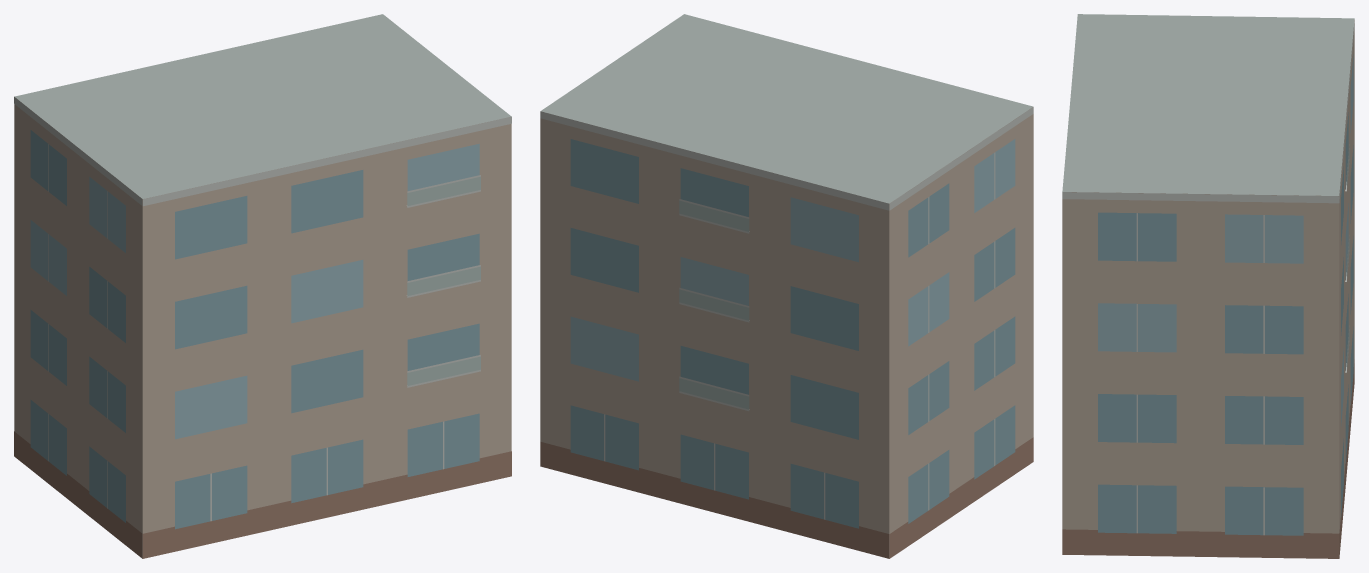
Rendered from residential-c072b9a8-ba1a-48c3-94fe-61c0b2ecac6c.glb.
3 views of the same model, side by side, from view 1: azimuth 30°, elevation 25°; view 2: azimuth 150°, elevation 25°; view 3: azimuth 270°, elevation 25° (orthographic). The views are drawn at different scales.
Parts seen in each view (by area): view 1: residential-c072b9a8-ba1a-48c3-94fe-61c0b2ecac6c.tmp; view 2: residential-c072b9a8-ba1a-48c3-94fe-61c0b2ecac6c.tmp; view 3: residential-c072b9a8-ba1a-48c3-94fe-61c0b2ecac6c.tmp.
Boxes of the visible parts, x1=… form: residential-c072b9a8-ba1a-48c3-94fe-61c0b2ecac6c.tmp: x1=14, y1=14, x2=511, y2=558; residential-c072b9a8-ba1a-48c3-94fe-61c0b2ecac6c.tmp: x1=540, y1=14, x2=1033, y2=558; residential-c072b9a8-ba1a-48c3-94fe-61c0b2ecac6c.tmp: x1=1062, y1=14, x2=1354, y2=558.
Bounding box in the file's own units: 13.14 × 12.2 × 8.92.
